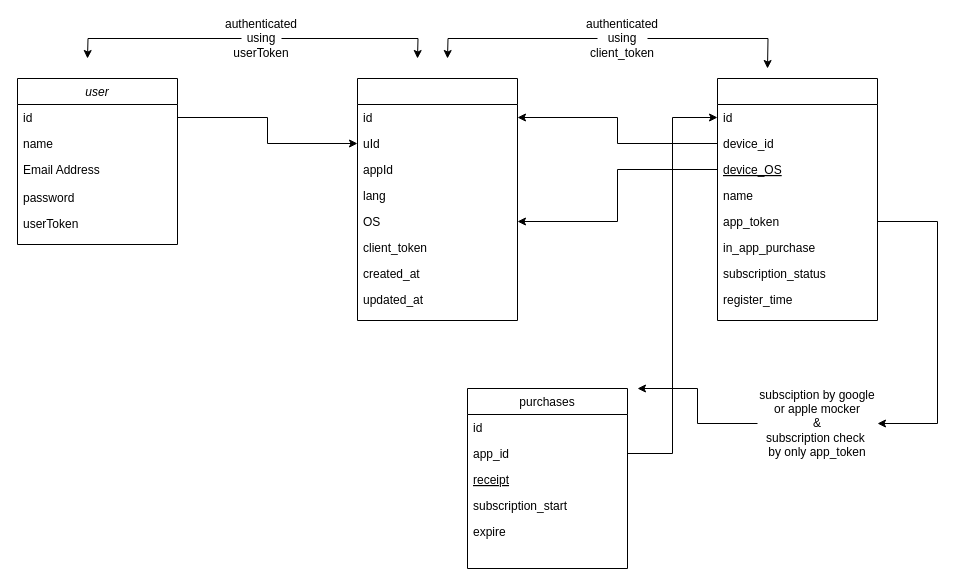
The diagram is 963 pixels wide and 586 high, and some of its shapes have lost their labels. The box of each missing label's shape, as (x1, y1, x2, y2) in pixels:
devices: (356, 78, 518, 320)
mobile_apps: (716, 78, 878, 320)
